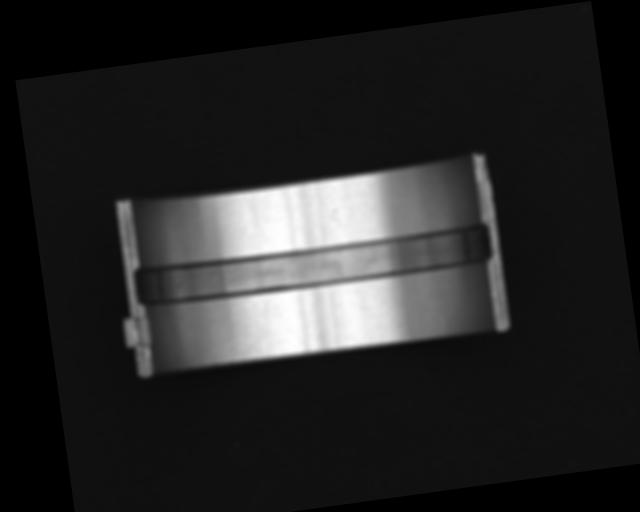gap: (129, 220, 495, 311)
